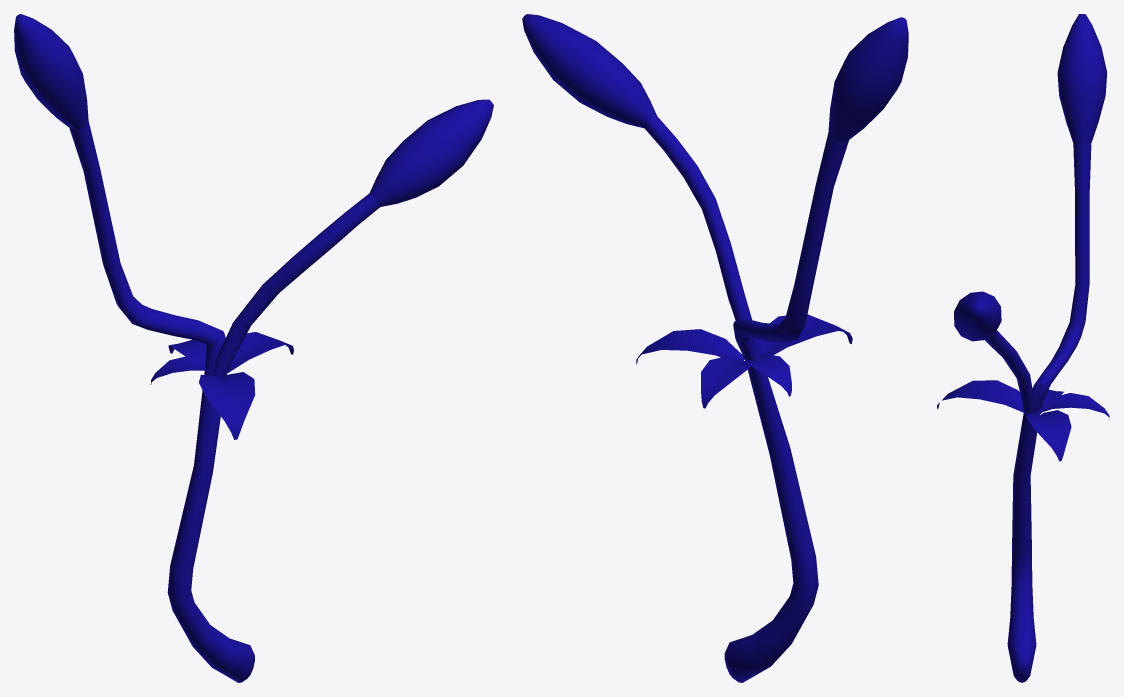
File: SM_Cut_UmbrellaLily_01.fbx
The picture shows the model from 3 angles, left to right: view 1: azimuth 30°, elevation 25°; view 2: azimuth 150°, elevation 25°; view 3: azimuth 270°, elevation 25°; orthographic projection. The views are drawn at different scales.
Visible parts, largest first — view 1: SM_Trash_001, SM_Piece_000, SM_Piece_001, SM_Piece_002, SM_Piece_003; view 2: SM_Trash_001, SM_Piece_000, SM_Piece_001, SM_Piece_003, SM_Piece_005, SM_Piece_002, SM_Piece_004; view 3: SM_Trash_001, SM_Piece_001, SM_Piece_000, SM_Piece_002, SM_Piece_003, SM_Piece_005.
Boxes of the visible parts, left/top/right/bottom form: SM_Trash_001: left=69, top=121, right=379, bottom=682; SM_Piece_000: left=370, top=99, right=493, bottom=206; SM_Piece_001: left=14, top=14, right=88, bottom=129; SM_Piece_002: left=199, top=372, right=255, bottom=439; SM_Piece_003: left=227, top=332, right=293, bottom=373; SM_Trash_001: left=644, top=115, right=848, bottom=682; SM_Piece_000: left=522, top=14, right=656, bottom=128; SM_Piece_001: left=828, top=17, right=908, bottom=141; SM_Piece_003: left=636, top=329, right=744, bottom=364; SM_Piece_005: left=701, top=356, right=751, bottom=408; SM_Piece_002: left=758, top=314, right=852, bottom=355; SM_Piece_004: left=740, top=354, right=791, bottom=396; SM_Trash_001: left=985, top=143, right=1091, bottom=682; SM_Piece_001: left=1057, top=14, right=1107, bottom=144; SM_Piece_000: left=954, top=291, right=1001, bottom=341; SM_Piece_002: left=937, top=380, right=1026, bottom=413; SM_Piece_003: left=1026, top=410, right=1071, bottom=461; SM_Piece_005: left=1038, top=393, right=1109, bottom=419.
Size of the model in its own units: 94.88 by 149 by 39.55.
